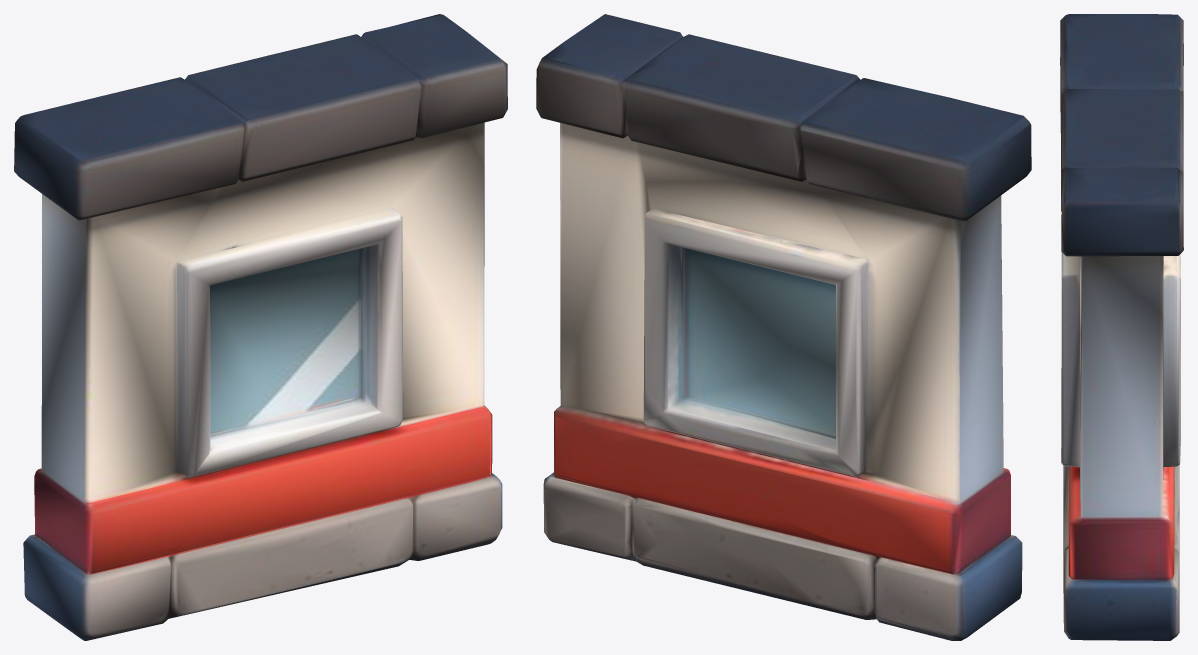
The model's file is qiang_chuang.glb.
The picture shows the model from 3 angles, left to right: view 1: azimuth 30°, elevation 25°; view 2: azimuth 150°, elevation 25°; view 3: azimuth 270°, elevation 25°; orthographic projection. The views are drawn at different scales.
Parts seen in each view (by area): view 1: node_0; view 2: node_0; view 3: node_0.
Boxes of the visible parts, <box> form: node_0: <box>14,14,507,640</box>; node_0: <box>536,14,1031,640</box>; node_0: <box>1060,14,1183,640</box>.
Size of the model in its own units: 0.8186 by 0.8741 by 0.2222.
1 material, 1 textured.
